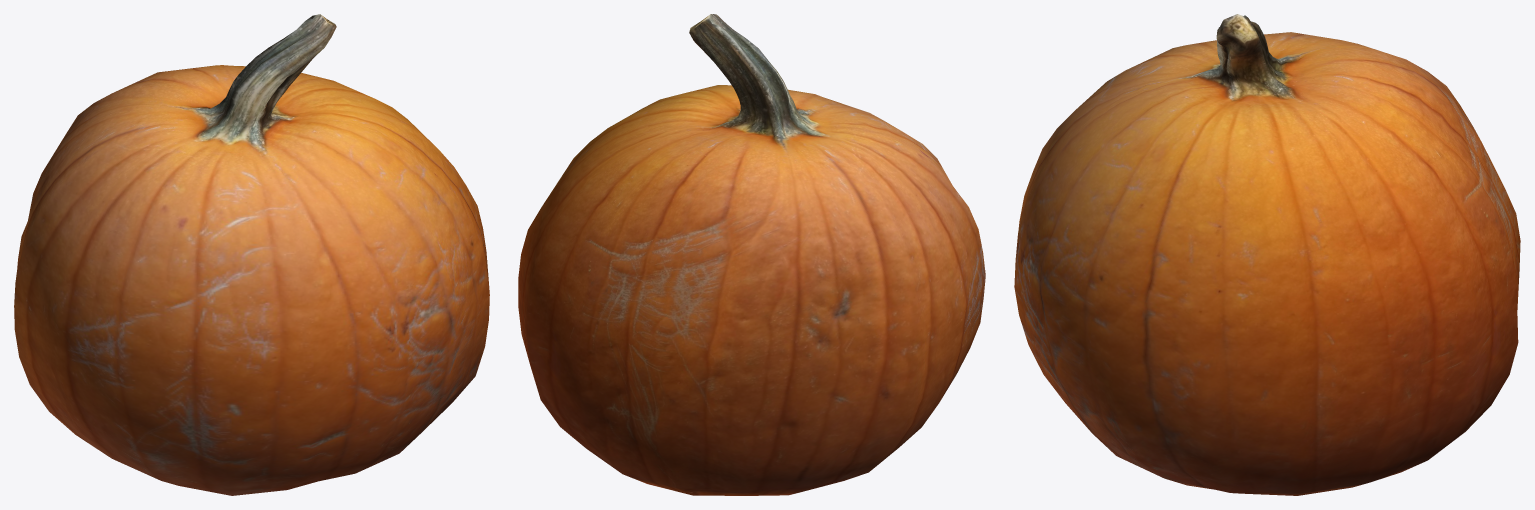
The model's file is OrangeVegetablePumpkin02.fbx.
The picture shows the model from 3 angles, left to right: view 1: azimuth 30°, elevation 25°; view 2: azimuth 150°, elevation 25°; view 3: azimuth 270°, elevation 25°; orthographic projection. The views are drawn at different scales.
Visible parts, largest first — view 1: Pumpkin02; view 2: Pumpkin02; view 3: Pumpkin02.
Boxes of the visible parts, x1,y1,x2,y2 form: Pumpkin02: (14,14,489,495); Pumpkin02: (518,14,985,495); Pumpkin02: (1014,14,1520,495).
Size of the model in its own units: 0.1392 by 0.1377 by 0.139.
1 material, 1 textured.
